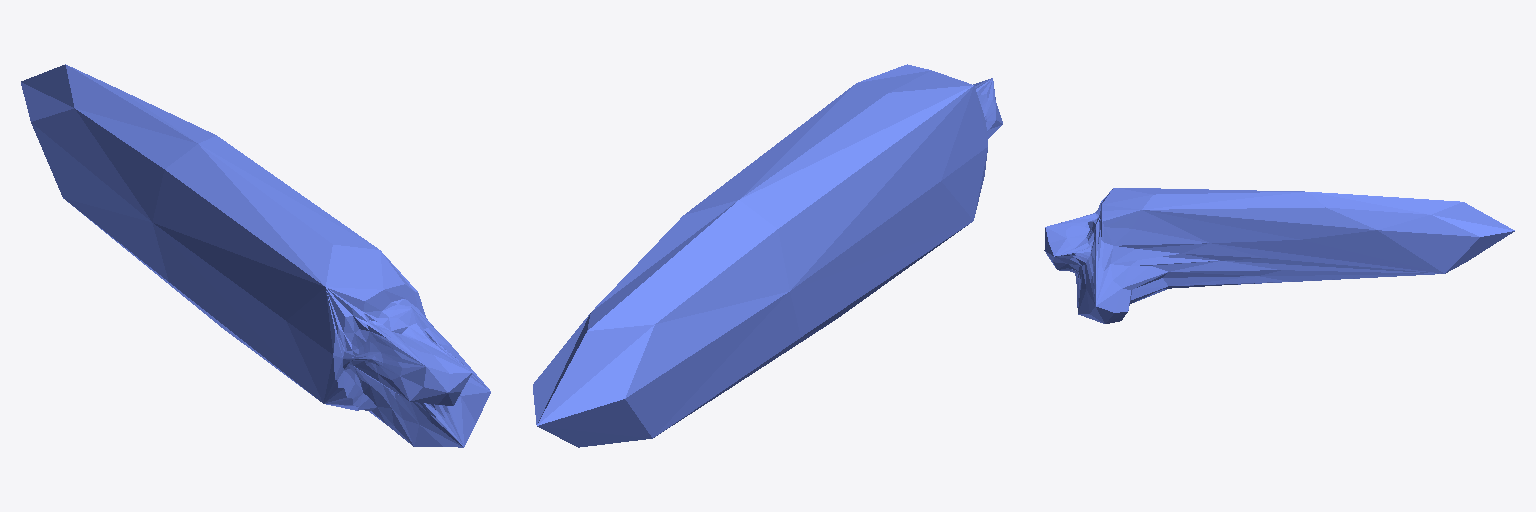
The robot description file, URDF, robot "blob685":

<robot name="blob685">
  <link name="random_obj_685">
    <contact>
      <lateral_friction value="1.0"/>
      <rolling_friction value="0.0"/>
      <inertia_scaling value="3.0"/>
      <contact_cfm value="0.0"/>
      <contact_erp value="1.0"/>
    </contact>
    <inertial>
      <origin rpy="0 0 0" xyz="0 0 0"/>
      <mass value="0.1449"/>
      <inertia ixx="1" ixy="0" ixz="0" iyy="1" iyz="0" izz="0"/>
    </inertial>
    <visual>
      <origin rpy="0 0 0" xyz="0 0 0"/>
      <geometry>
        <mesh filename="685.obj" scale="0.0085 0.0085 0.0085"/>
      </geometry>
      <material name="blockmat">
        <color rgba="0.50 0.60 0.99 1"/>
      </material>
    </visual>
    <collision>
      <origin rpy="0 0 0" xyz="0 0 0"/>
      <geometry>
        <mesh filename="685_coll.obj" scale="0.0085 0.0085 0.0085"/>
      </geometry>
    </collision>
  </link>
</robot>

--- Render facts (derived) ---
Views: 3 orthographic renders of the robot side by side, from view 1: azimuth 30°, elevation 25°; view 2: azimuth 150°, elevation 25°; view 3: azimuth 270°, elevation 25°.
Model blob685 with 1 links and 0 joints (none), rooted at random_obj_685, posed every joint at zero.
Links seen in each view (by area): view 1: random_obj_685; view 2: random_obj_685; view 3: random_obj_685.
Boxes of the visible links, x1,y1,x2,y2 form: random_obj_685: (21, 64, 490, 447); random_obj_685: (533, 64, 1002, 447); random_obj_685: (1044, 188, 1514, 323).
Bounding box of the posed robot: 0.0258 × 0.1152 × 0.0305 m (x, y, z).
1 mesh visuals loaded from 1 distinct referenced files (1 OBJ).
